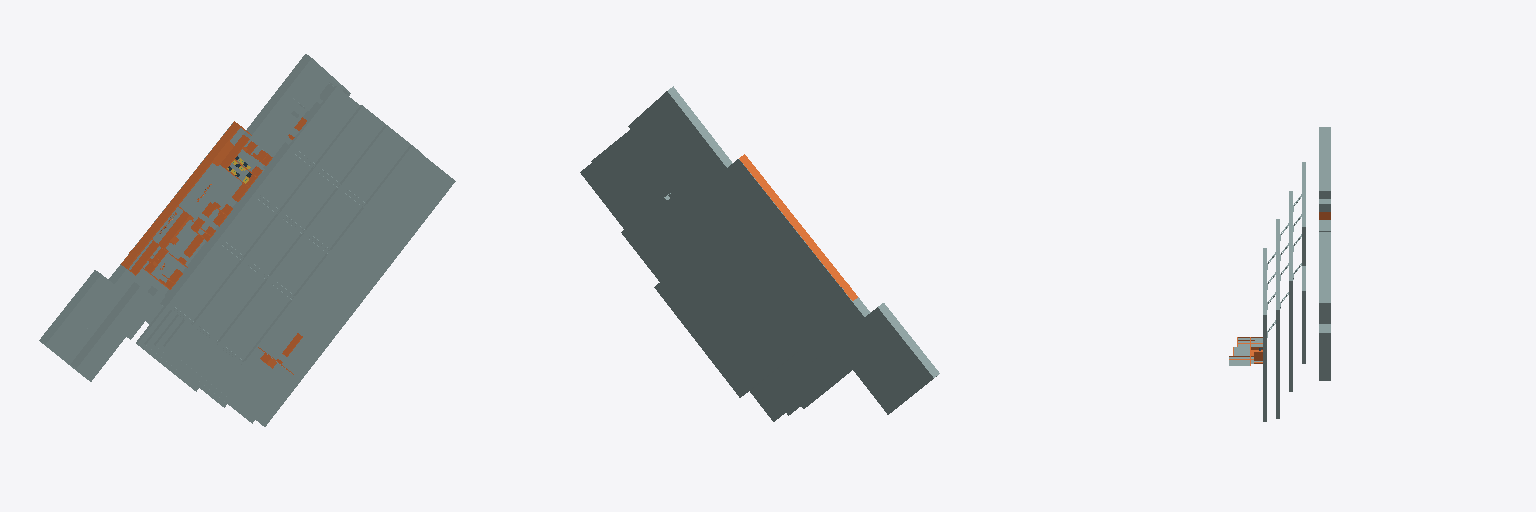
Rendered from gund_model3.obj.
The picture shows the model from 3 angles: view 1: azimuth 30°, elevation 25°; view 2: azimuth 150°, elevation 25°; view 3: azimuth 270°, elevation 25°; orthographic projection.
Parts seen in each view (by area): view 1: object_98, object_135, object_138, object_139, object_140, object_124, object_128; view 2: object_135, object_140, object_139, object_138, object_124; view 3: object_135, object_139, object_140, object_138, object_98.
Part boxes in pixels (left/top/right/bottom): object_98: left=163, top=145, right=455, bottom=426; object_135: left=39, top=54, right=350, bottom=381; object_138: left=154, top=125, right=409, bottom=423; object_139: left=136, top=86, right=359, bottom=391; object_140: left=144, top=105, right=420, bottom=407; object_124: left=121, top=121, right=251, bottom=275; object_128: left=143, top=211, right=193, bottom=289; object_135: left=621, top=86, right=939, bottom=414; object_140: left=591, top=130, right=800, bottom=415; object_139: left=621, top=130, right=850, bottom=408; object_138: left=580, top=163, right=785, bottom=421; object_124: left=739, top=154, right=857, bottom=300; object_135: left=1319, top=127, right=1330, bottom=380; object_139: left=1302, top=162, right=1305, bottom=363; object_140: left=1289, top=191, right=1292, bottom=391; object_138: left=1276, top=219, right=1279, bottom=418; object_98: left=1263, top=248, right=1266, bottom=421.
Size of the model in its own units: 212 by 175 by 49.14.